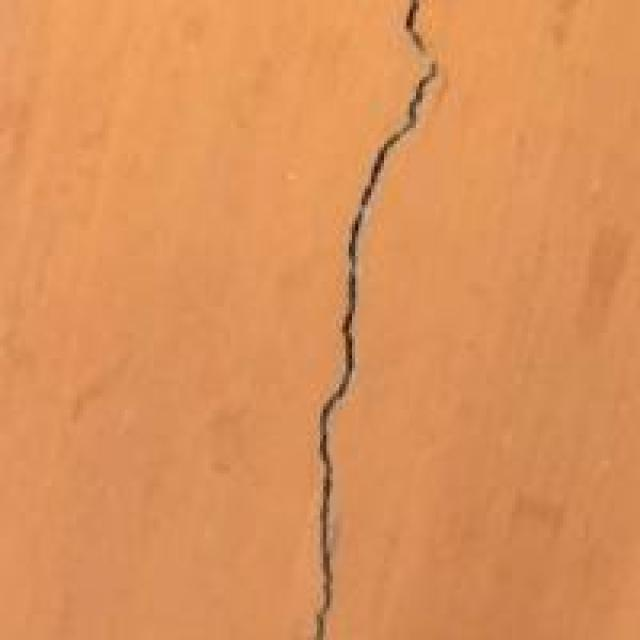Crack: (282, 0, 470, 637)
